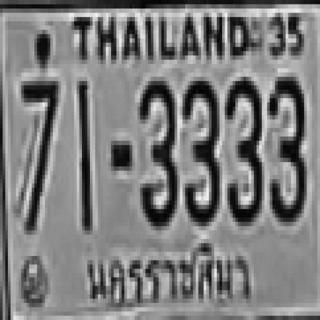N01: (77, 75, 90, 228)
N03: (223, 73, 260, 222), (267, 72, 304, 218), (180, 77, 217, 222), (138, 77, 174, 222)
N07: (18, 77, 58, 230)
P30: (80, 240, 255, 306)
